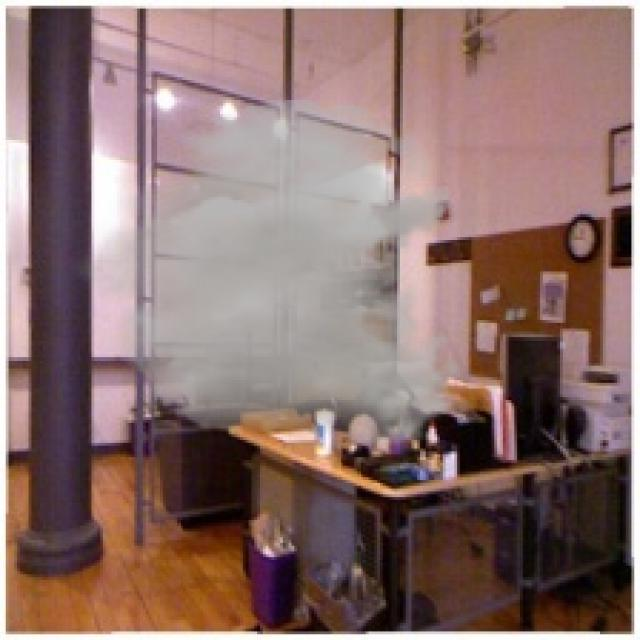smoke: (66, 100, 466, 449)
